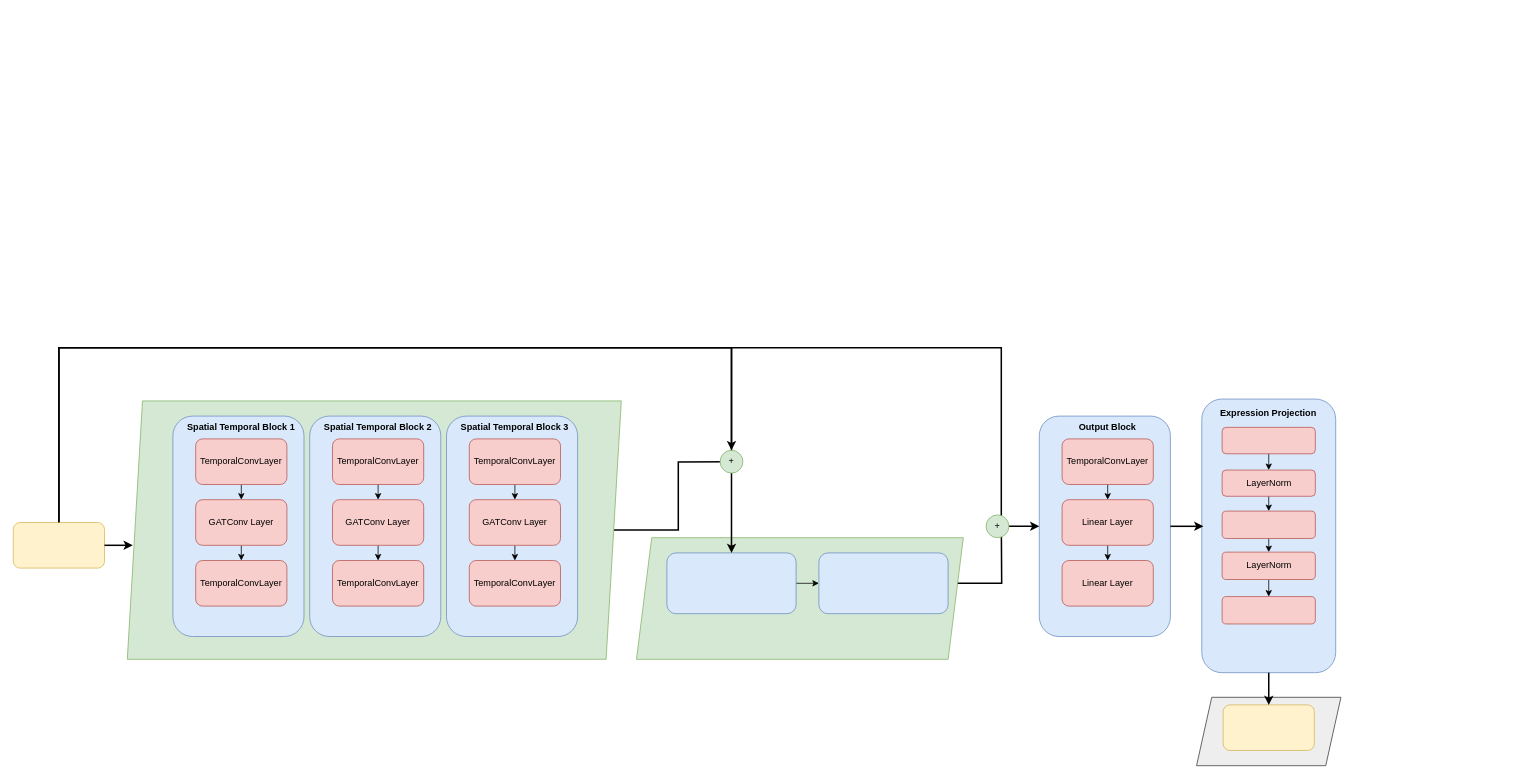
This 1524x779 diagram has some shape labels left out. Each missing label, with the box of its shape:
BiDirectional LSTM with 4 layers: (666, 552, 796, 614)
Input Graph with Temporal Node2Vec features: (13, 522, 104, 568)
Linear Layer [16,1]: (1221, 596, 1315, 624)
Linear Layer [32,16]: (1221, 510, 1315, 538)
Linear Layer [block size, 32]: (1221, 427, 1315, 454)
MultiHead Attention with 4 Heads: (818, 552, 948, 614)
Predicted Expression Value: (1222, 704, 1314, 750)
